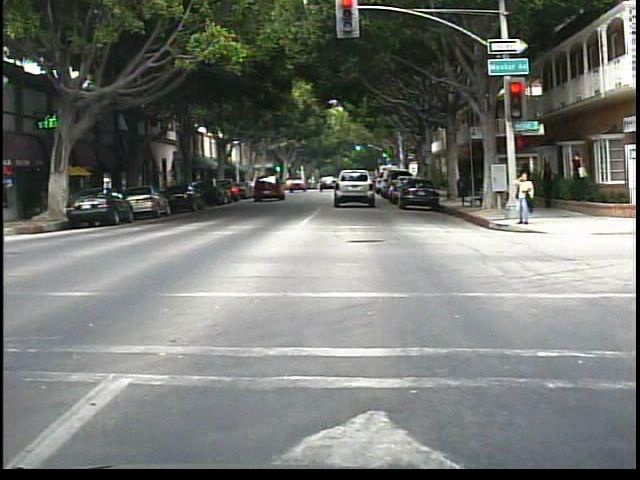person: (510, 169, 537, 228), (567, 149, 592, 203), (538, 159, 561, 216), (517, 158, 536, 212)
